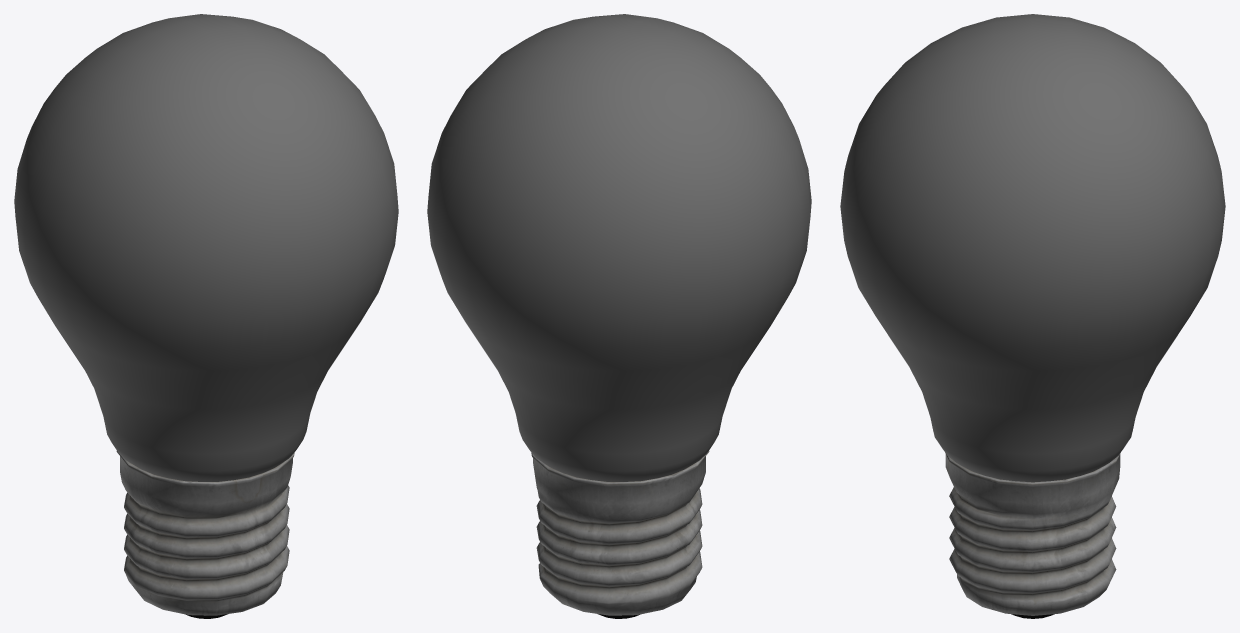
Rendered from lampada.glb.
3 views of the same model, side by side, from view 1: azimuth 30°, elevation 25°; view 2: azimuth 150°, elevation 25°; view 3: azimuth 270°, elevation 25° (orthographic).
Parts seen in each view (by area): view 1: Object_2, Object_3; view 2: Object_2, Object_3; view 3: Object_2, Object_3.
Part boxes in pixels (x1,y1,x2,y2): Object_2: (14,14,398,481); Object_3: (116,451,294,618); Object_2: (427,14,811,481); Object_3: (531,451,709,618); Object_2: (840,14,1225,482); Object_3: (945,453,1120,618).
Bounding box in the file's own units: 6 × 10.03 × 6.
2 materials, 1 textured.
